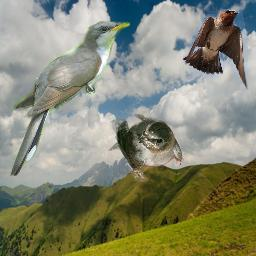Cuckoo: (10, 21, 130, 176)
Swallow: (107, 114, 184, 183), (183, 9, 248, 90)
